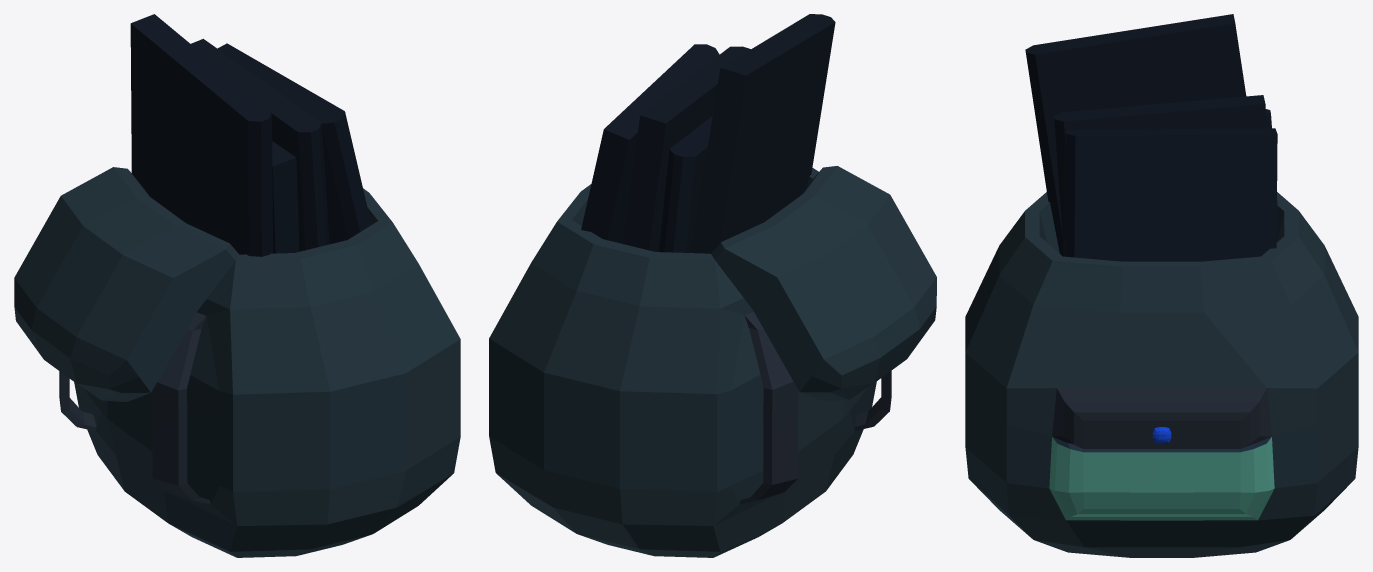
Rendered from Bag.Discs.fbx.
3 renders of one model, left to right at view 1: azimuth 30°, elevation 25°; view 2: azimuth 150°, elevation 25°; view 3: azimuth 270°, elevation 25°, orthographic. The views are drawn at different scales.
Visible parts, largest first — view 1: Bag.Discs; view 2: Bag.Discs; view 3: Bag.Discs.
Boxes of the visible parts, left/top/right/bottom form: Bag.Discs: left=14, top=14, right=460, bottom=557; Bag.Discs: left=489, top=14, right=936, bottom=557; Bag.Discs: left=965, top=14, right=1358, bottom=557.
Size of the model in its own units: 70.39 by 89.92 by 68.84.
